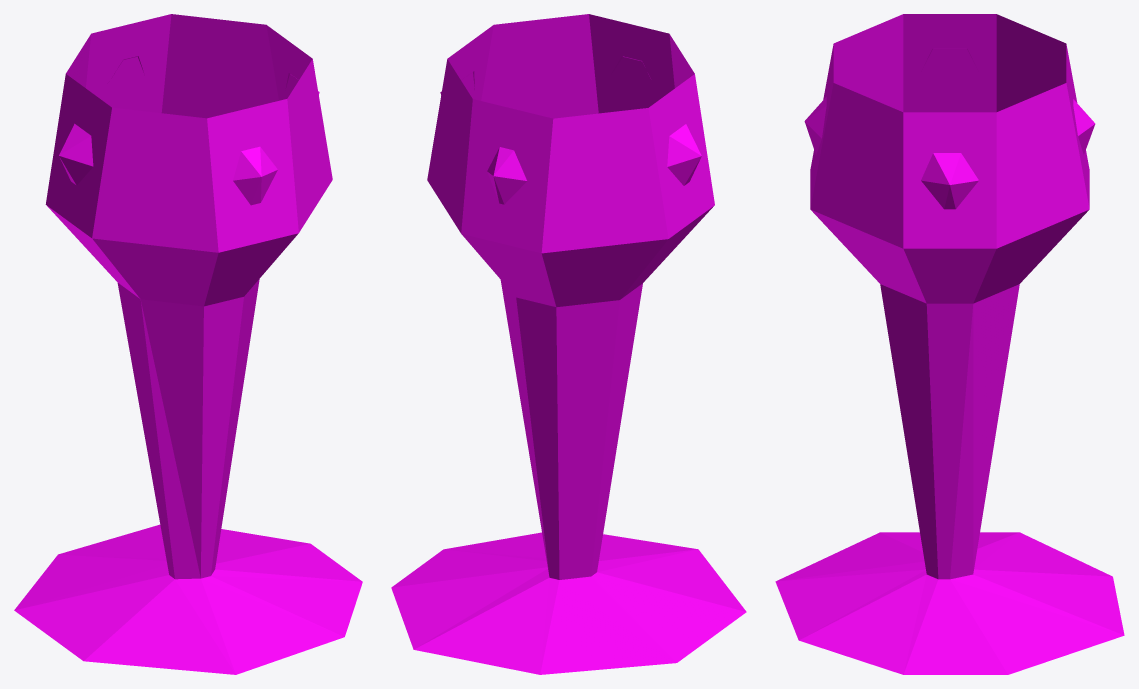
File: baxtorianchalicelow.obj
3 views of the same model, side by side, from view 1: azimuth 30°, elevation 25°; view 2: azimuth 150°, elevation 25°; view 3: azimuth 270°, elevation 25° (orthographic).
Visible parts, largest first — view 1: baxtorianchalicelow_back; view 2: baxtorianchalicelow_back; view 3: baxtorianchalicelow_back.
Boxes of the visible parts, <box> form: baxtorianchalicelow_back: <box>14,14,362,674</box>; baxtorianchalicelow_back: <box>391,14,746,674</box>; baxtorianchalicelow_back: <box>775,14,1124,674</box>.
Size of the model in its own units: 0.58 by 1.02 by 0.6.
